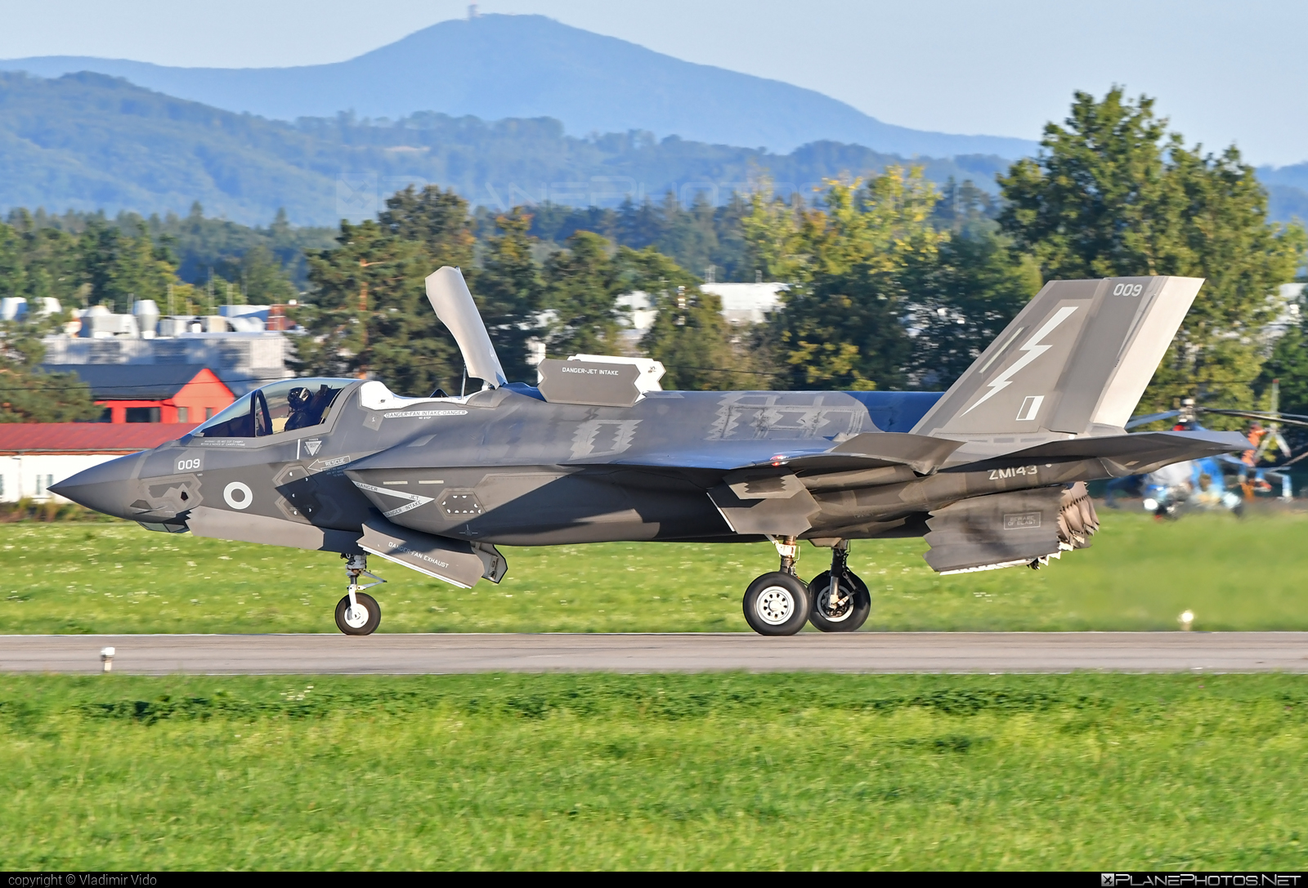F35: (38, 259, 1270, 642)
